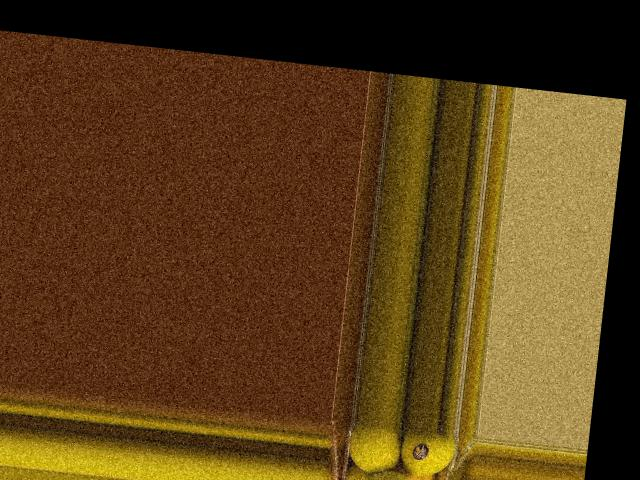apple: (359, 468, 421, 480)
